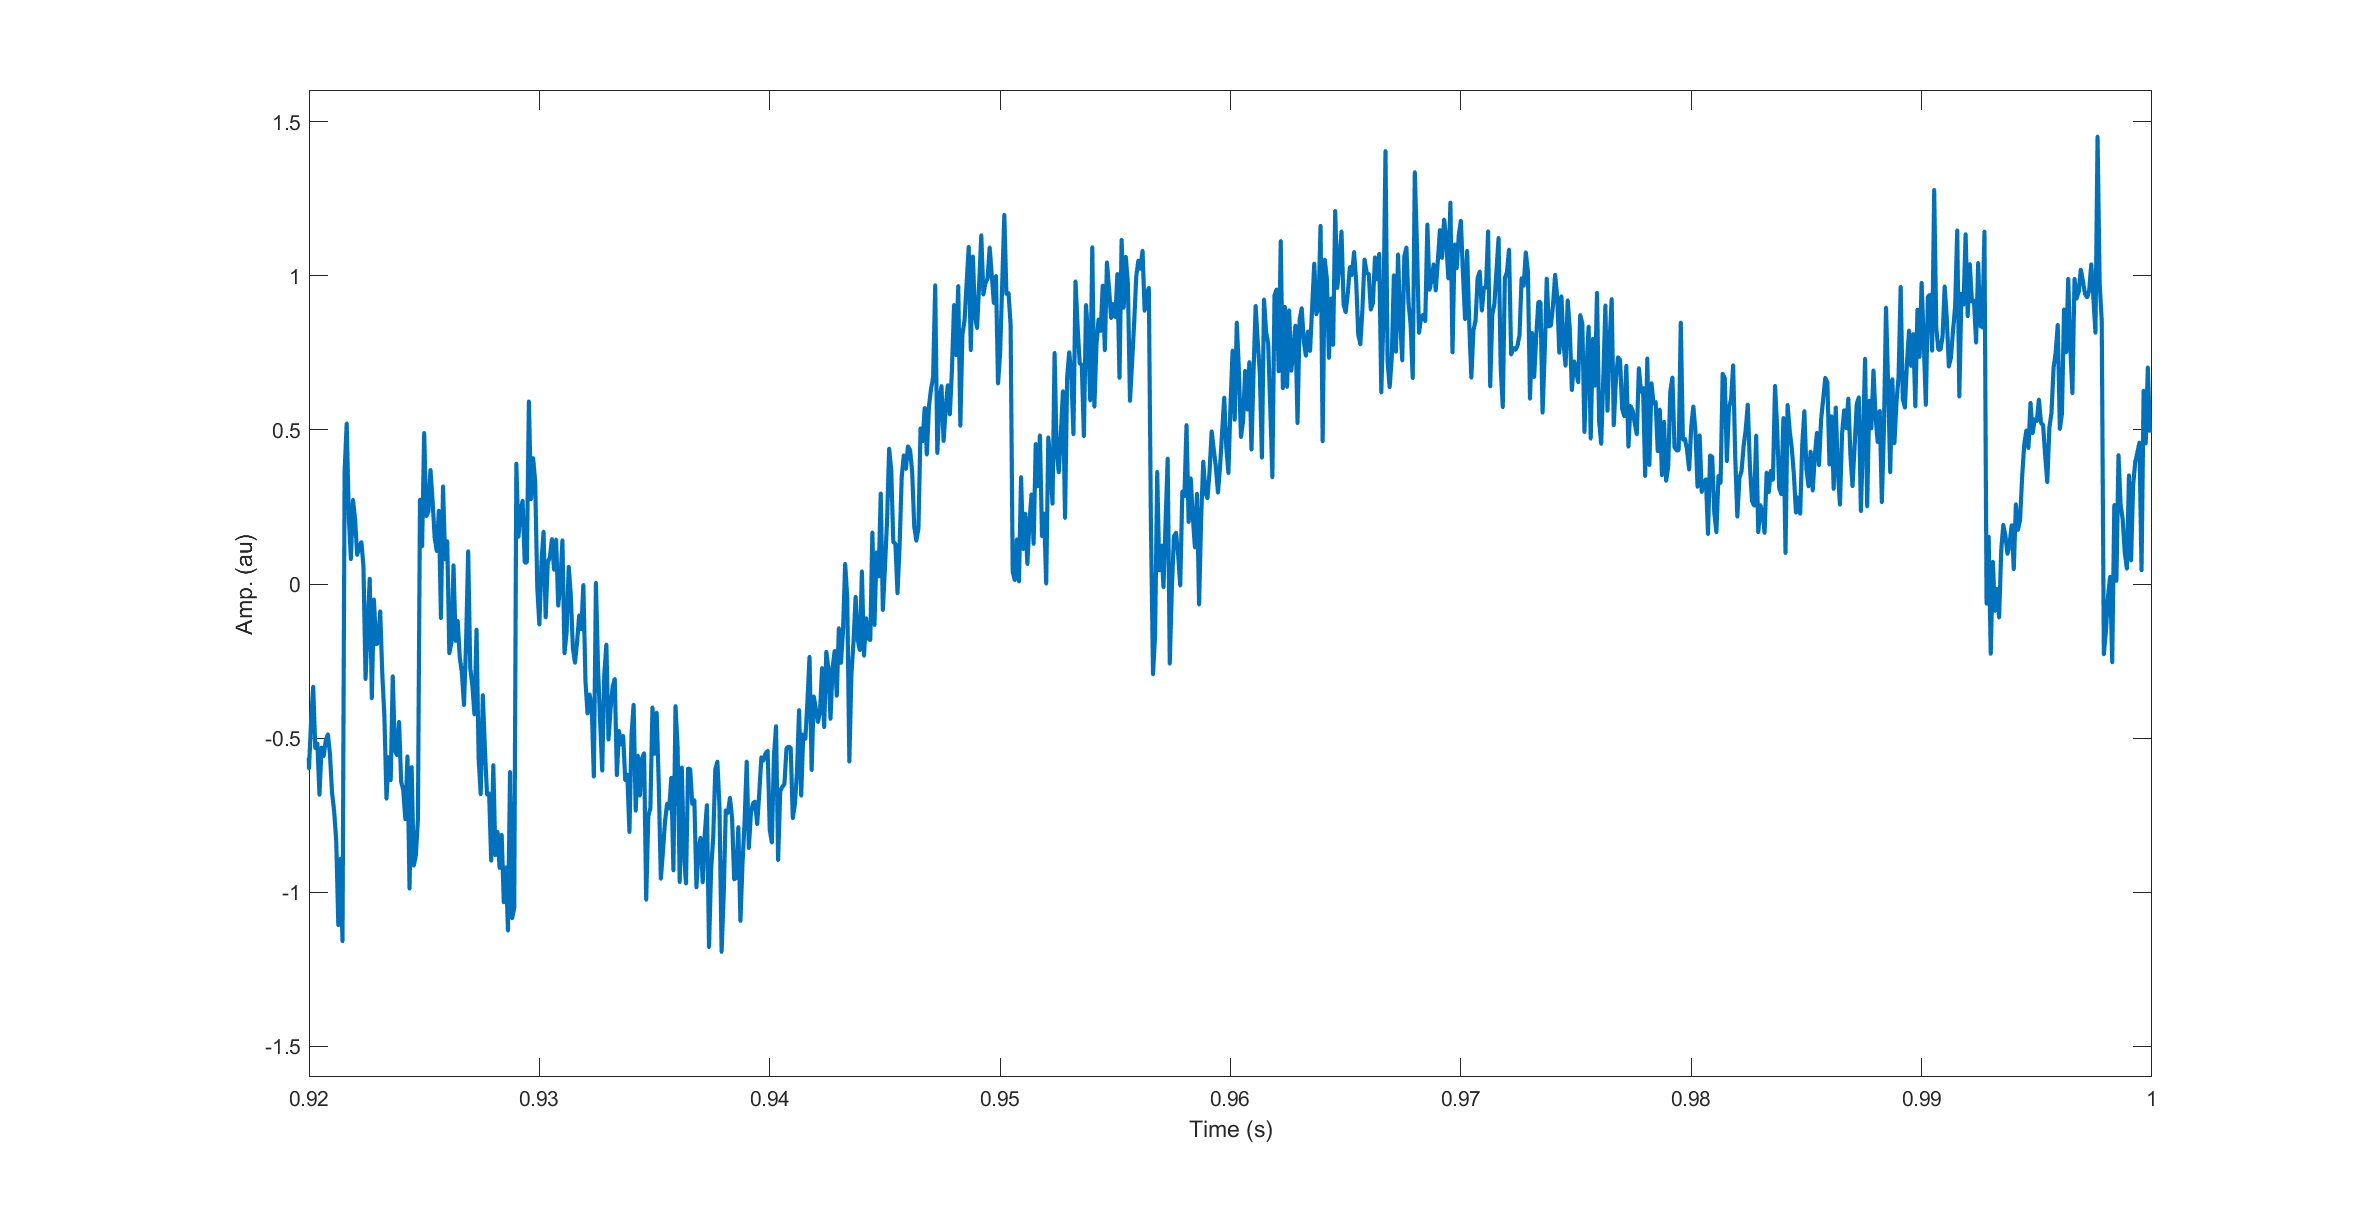negative_fringe: (505, 394, 650, 906), (406, 417, 492, 901), (333, 403, 404, 946)
positive_fringe: (1856, 177, 2001, 656), (1026, 230, 1164, 685), (2012, 120, 2113, 661), (900, 199, 1022, 622)
